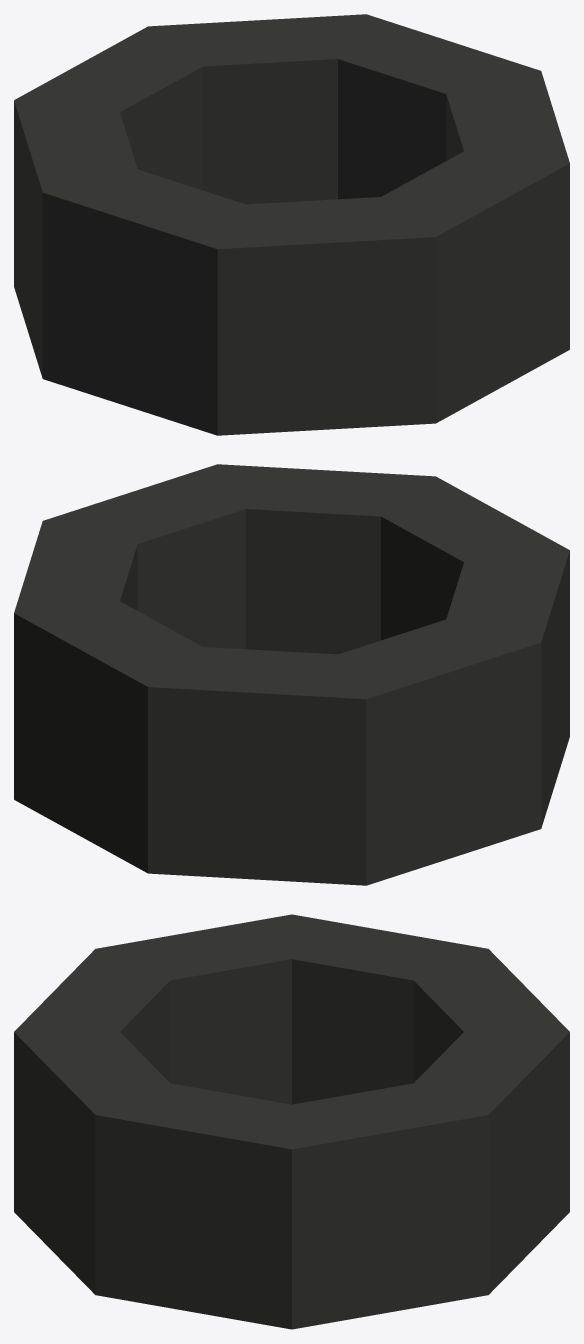
File: PorcaFerramenta.fbx
The picture shows the model from 3 angles, top to bottom: view 1: azimuth 30°, elevation 25°; view 2: azimuth 150°, elevation 25°; view 3: azimuth 270°, elevation 25°; orthographic projection. The views are drawn at different scales.
Visible parts, largest first — view 1: Cylinder; view 2: Cylinder; view 3: Cylinder.
Part boxes in pixels (bbox=[...]): Cylinder: bbox=[14, 14, 569, 435]; Cylinder: bbox=[14, 464, 569, 885]; Cylinder: bbox=[14, 914, 569, 1329].
Size of the model in its own units: 140 by 50.21 by 140.
